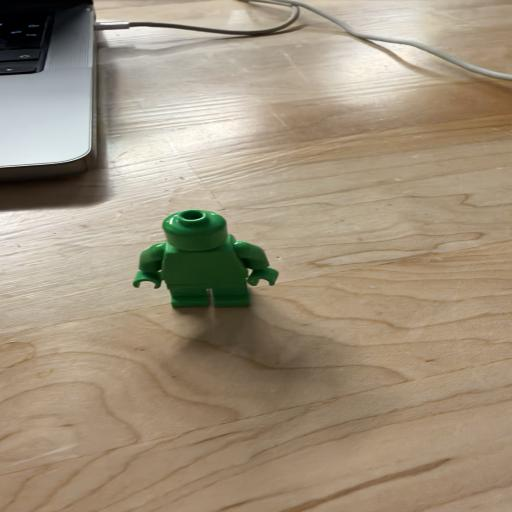green_minifig: (133, 209, 279, 309)
